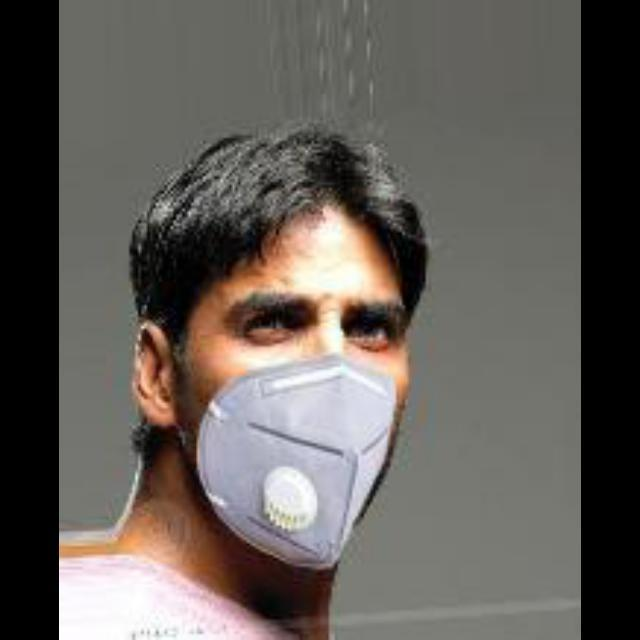suspicion: (117, 152, 451, 578)
